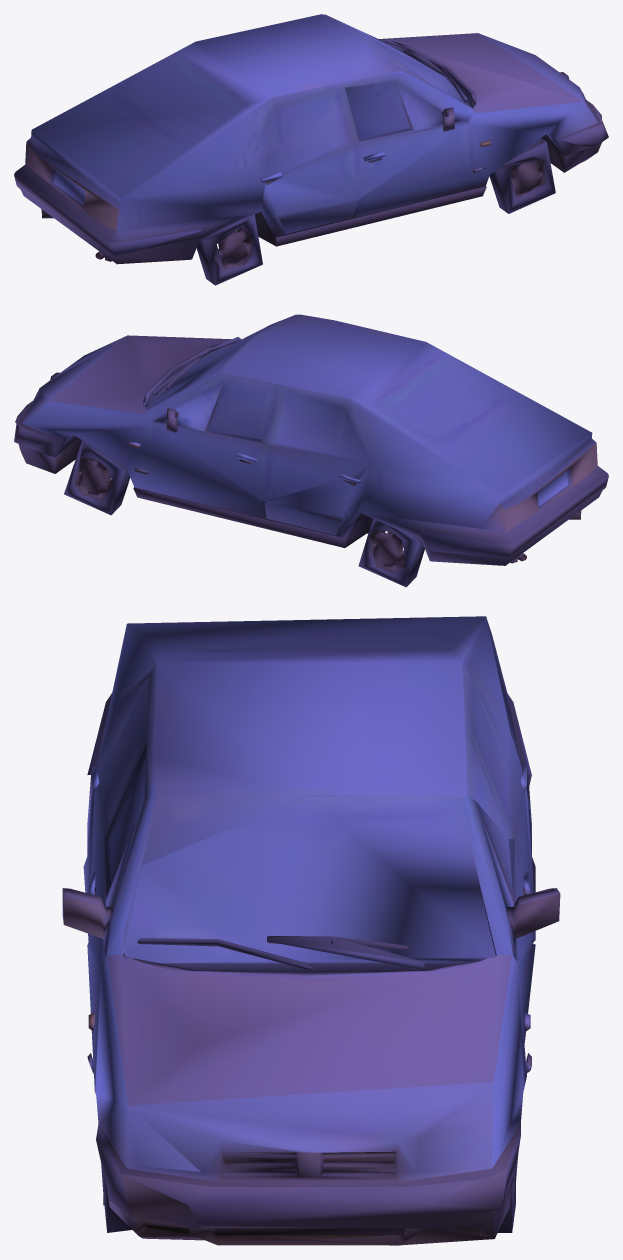
File: model.progressive.glb
The picture shows the model from 3 angles, top to bottom: view 1: azimuth 30°, elevation 25°; view 2: azimuth 150°, elevation 25°; view 3: azimuth 270°, elevation 25°; orthographic projection. The views are drawn at different scales.
Parts seen in each view (by area): view 1: RustyCar4; view 2: RustyCar4; view 3: RustyCar4.
Part boxes in pixels (box(x1,y1,x2,y2)): RustyCar4: box(14, 14, 608, 285); RustyCar4: box(14, 314, 608, 587); RustyCar4: box(62, 616, 560, 1245).
Bounding box in the file's own units: 1.12 × 0.3386 × 0.4709.
1 material, 1 textured.
